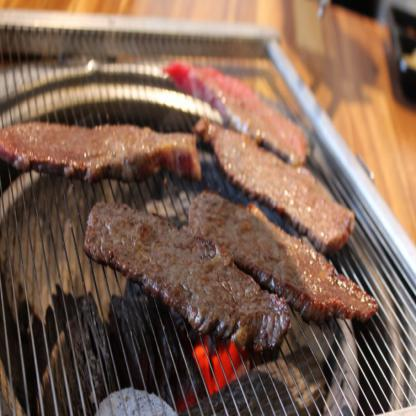Carne: (64, 200, 288, 354), (186, 186, 375, 336), (195, 113, 362, 252), (0, 110, 205, 193)
